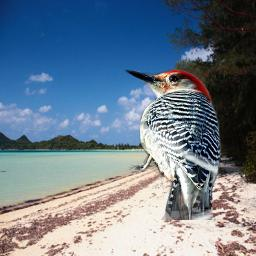Woodpecker: (119, 61, 226, 220)
